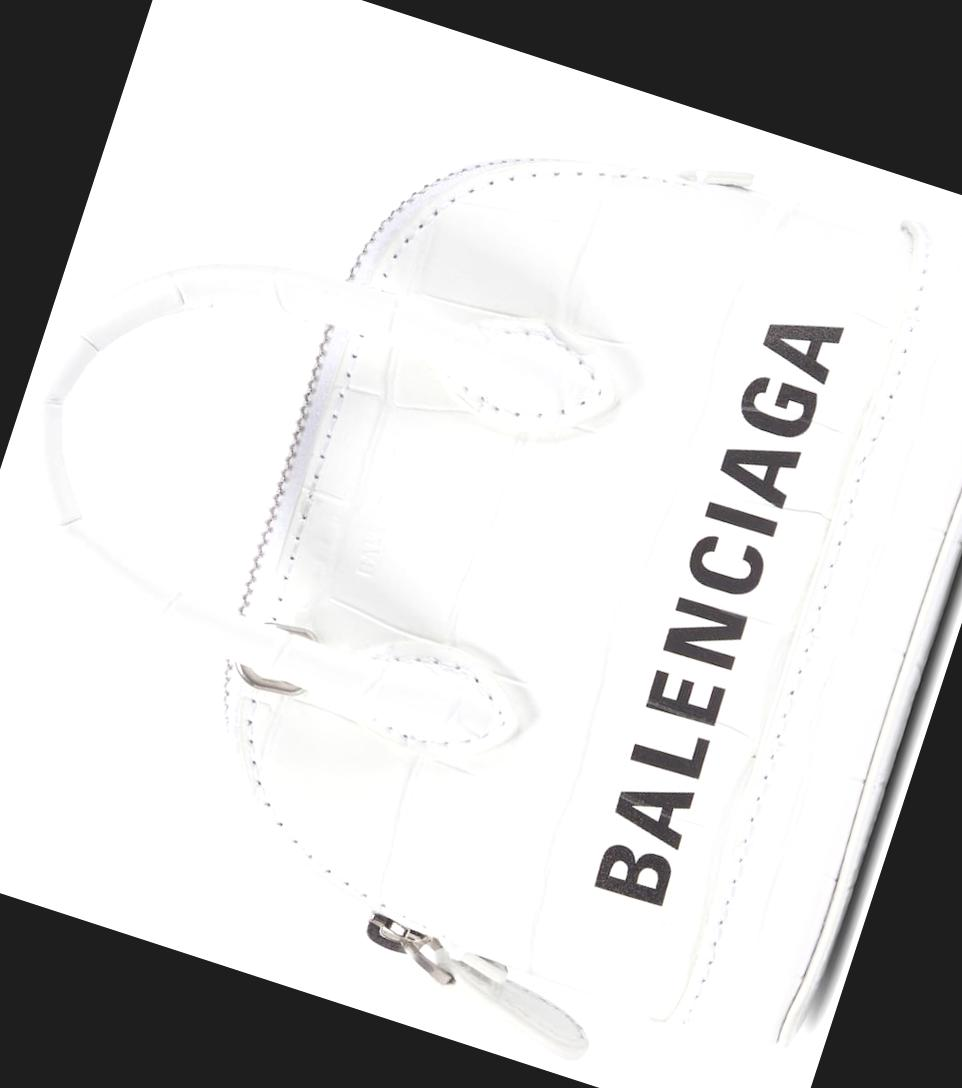BALENCIAGA: (582, 303, 850, 908)
